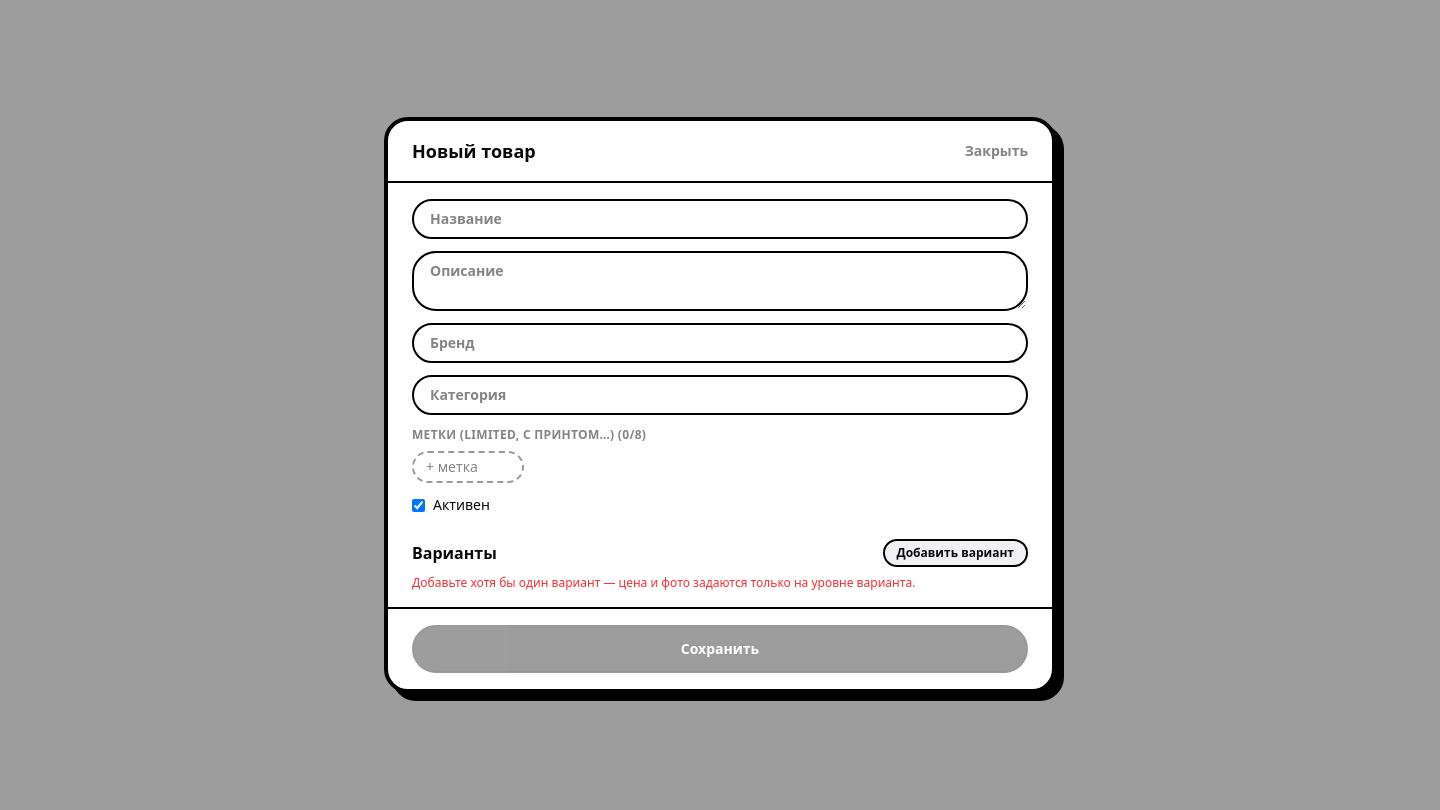
Test: ProductForm › adds a new variant row when Add variant is clicked
Expected: the text "Вариант 1" is not shown
What coordinates should you click on to do the following:
click the button "Добавить вариант"
I would click on:
 (955, 553)
Its box is [882, 539, 1028, 567].
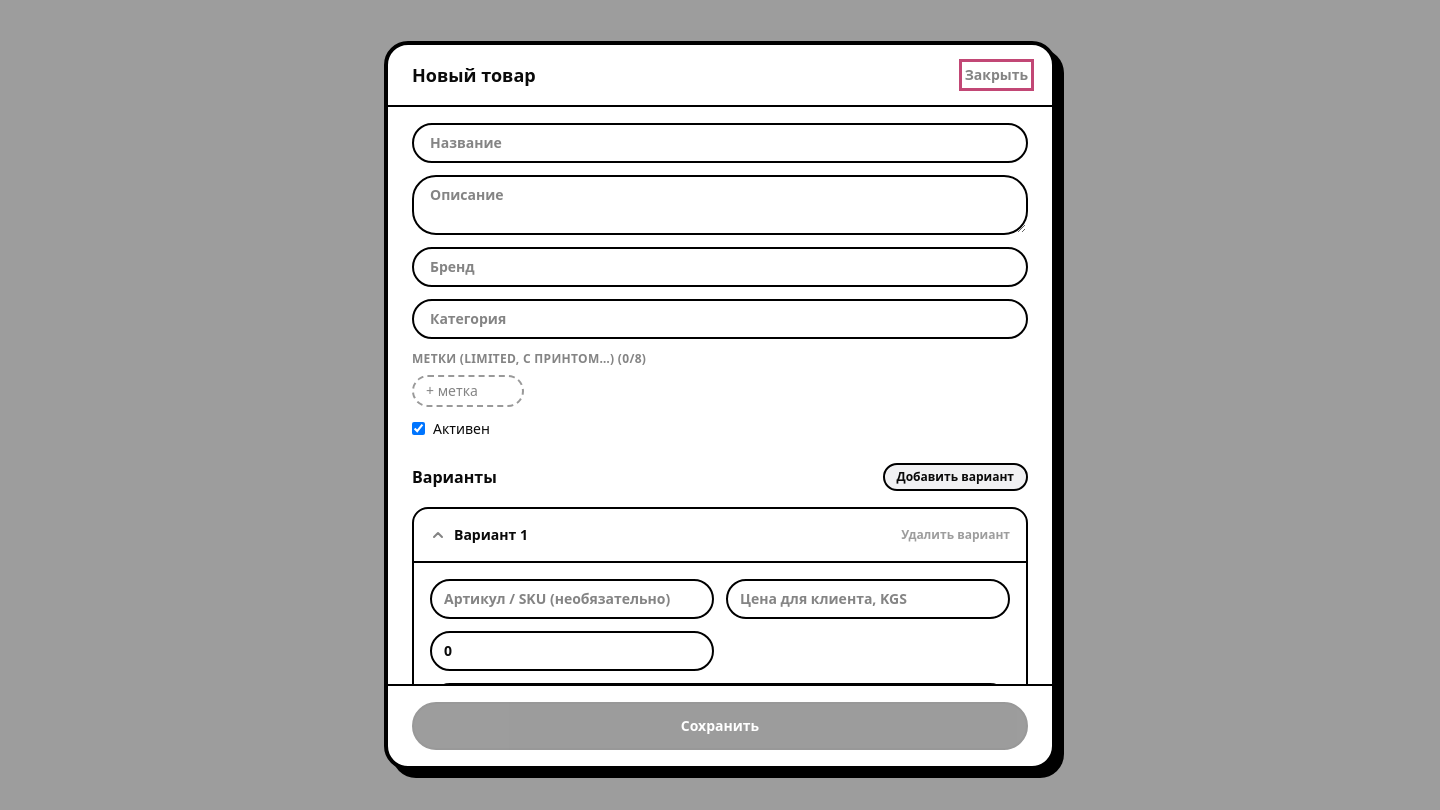
Expected: the text "Вариант 1" is shown, [454, 524, 528, 544]
